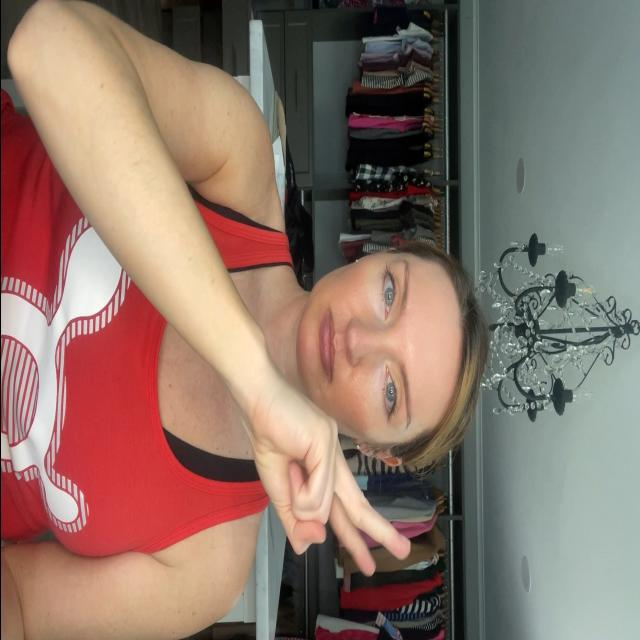Scissors: (248, 376, 412, 572)
